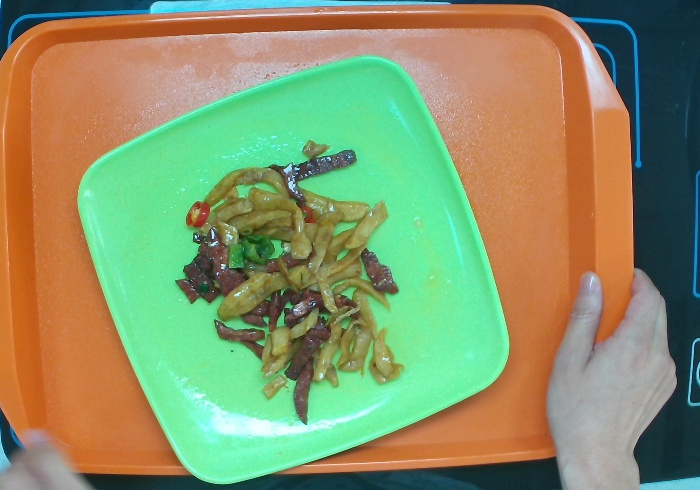ZNLD-Lv_Fang_Pan: (74, 54, 511, 487)
